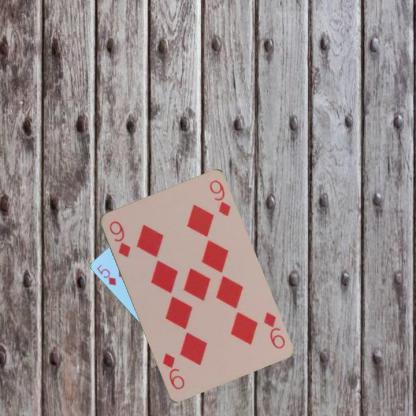5d: (94, 262, 118, 287)
9d: (106, 218, 132, 259), (261, 309, 286, 350)
